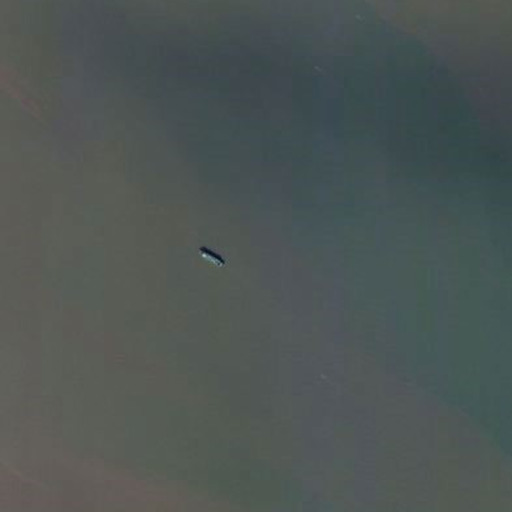ship: (194, 245, 227, 270)
